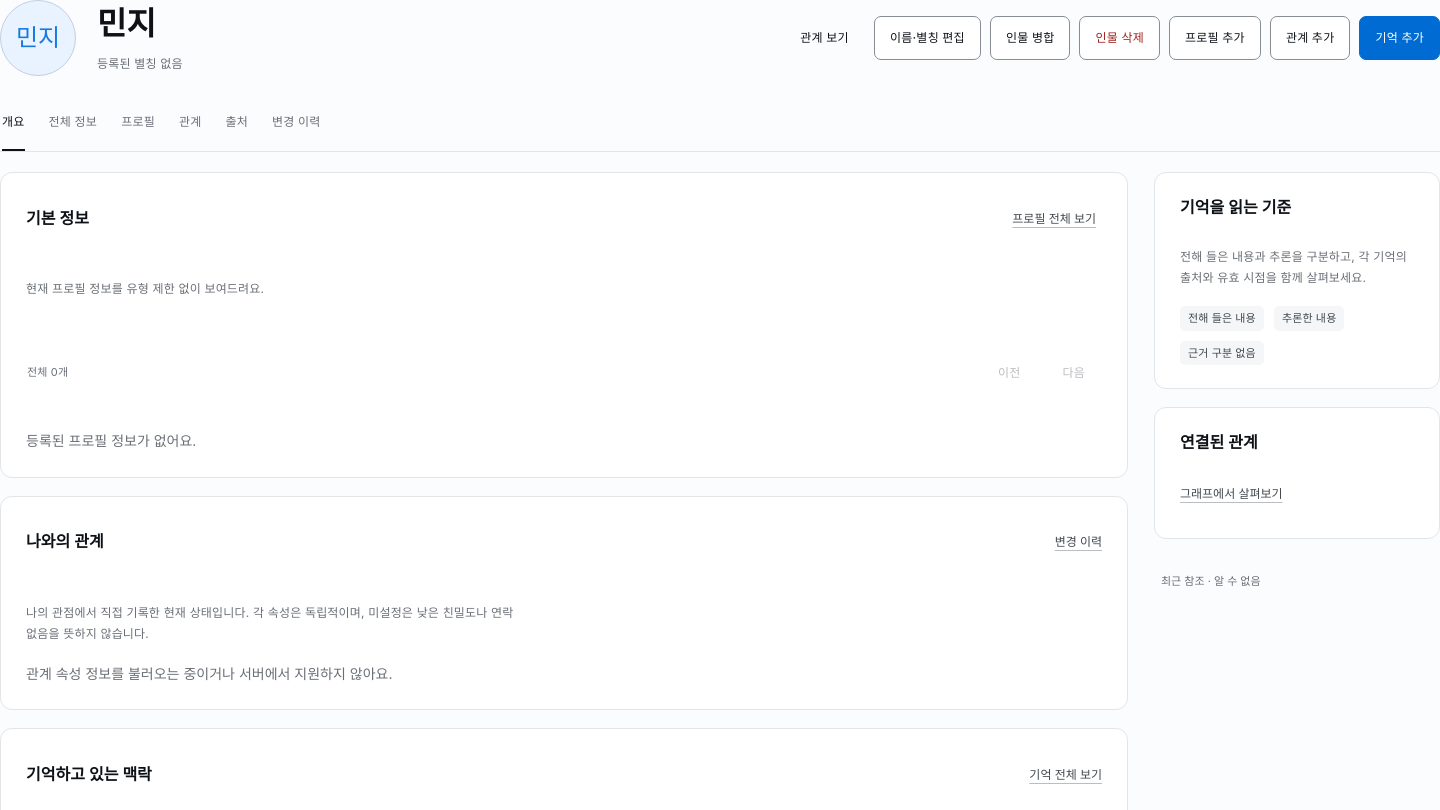
Test: 기억 조회와 변경 이력 › 인물 이름을 저장해도 같은 창의 미저장 별칭 초안을 잃지 않는다
This screenshot has width=1440, height=810.
Click the button "이름·별칭 편집" at [927, 38], box left=874, top=16, right=981, bottom=60
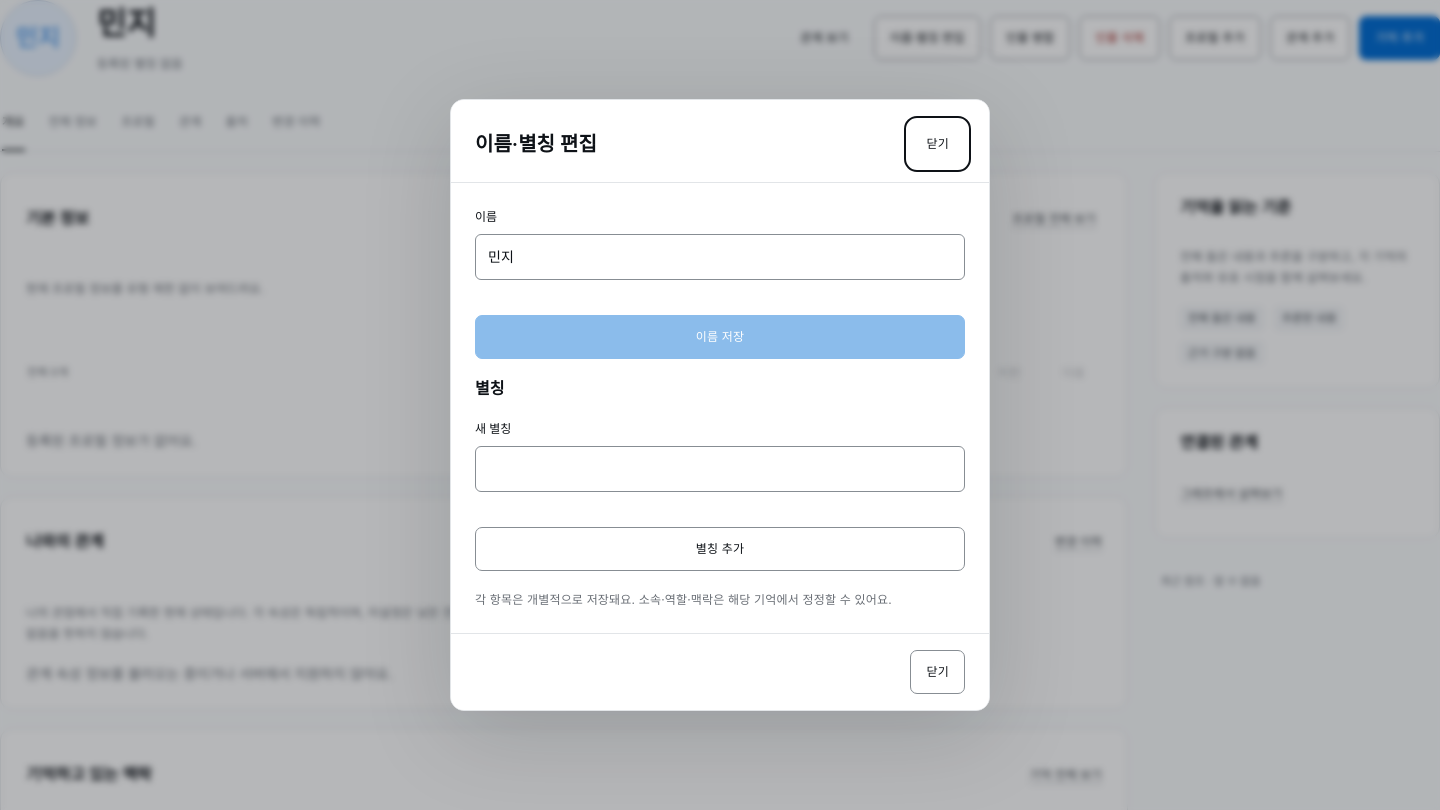
Type "아직 저장하지 않은 별칭" into the field labelled "새 별칭" at [720, 469], box left=475, top=446, right=965, bottom=492
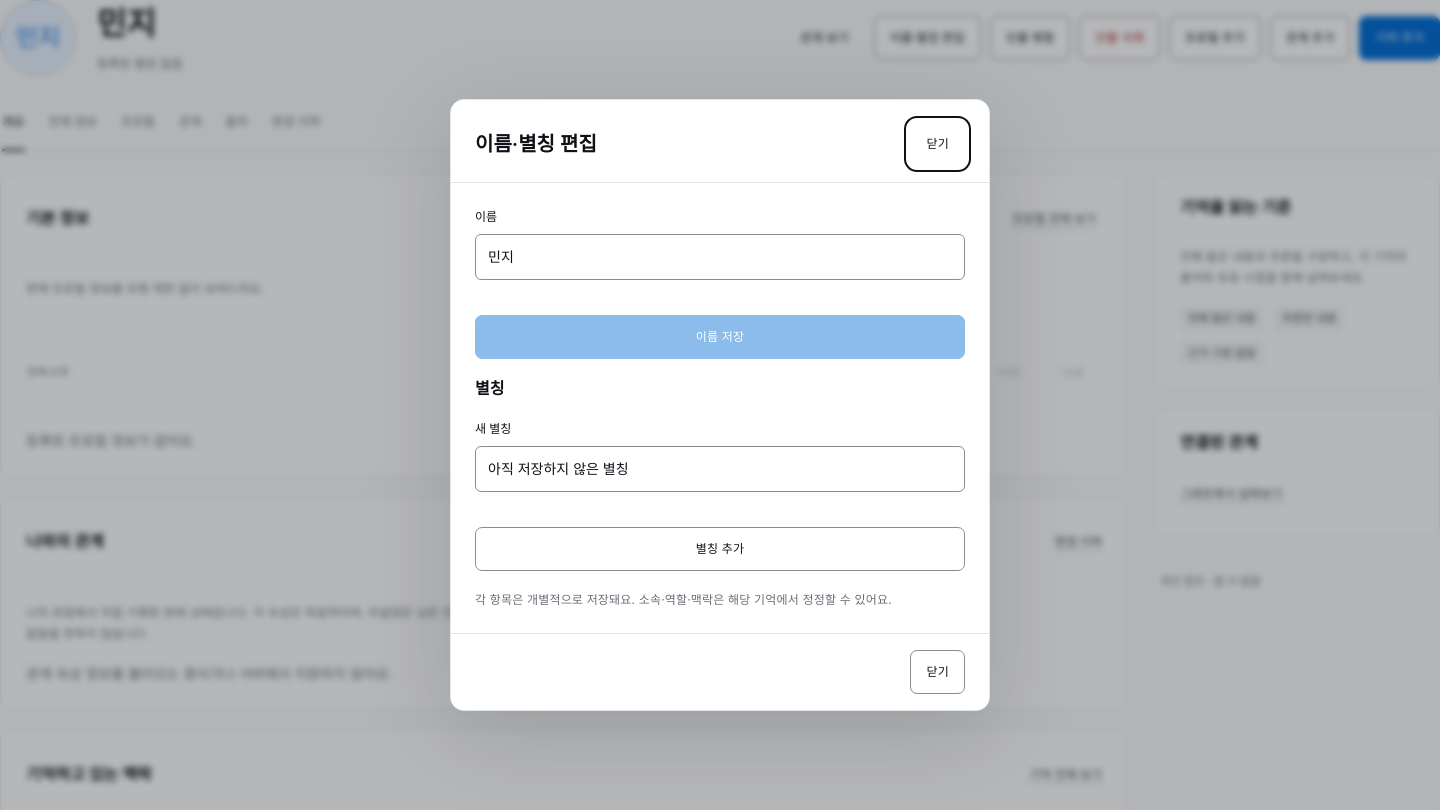
Replace the text in the field labelled "이름" with "김민지" at [720, 257], box left=475, top=234, right=965, bottom=280
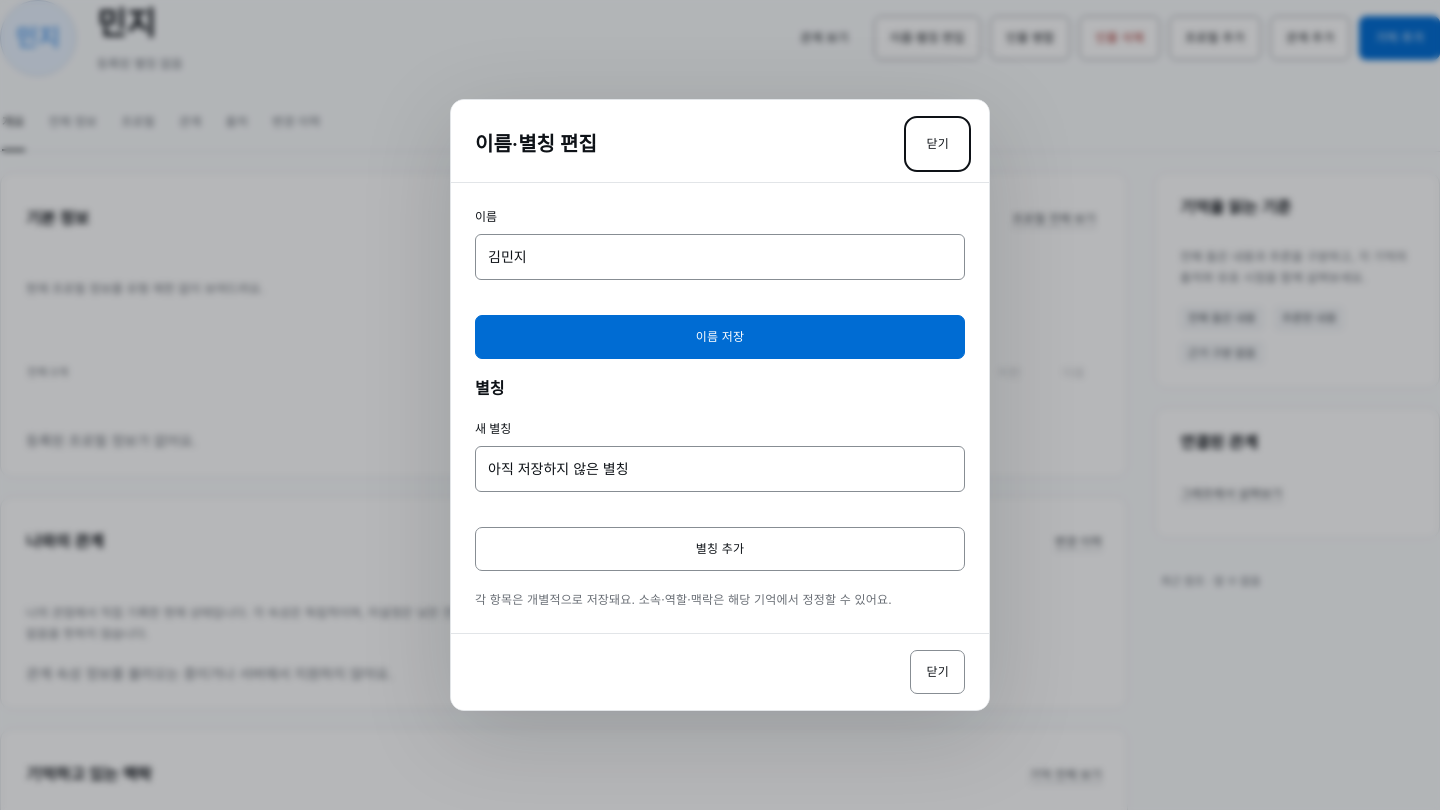
Click the button "이름 저장" at [720, 337], box left=475, top=315, right=965, bottom=359
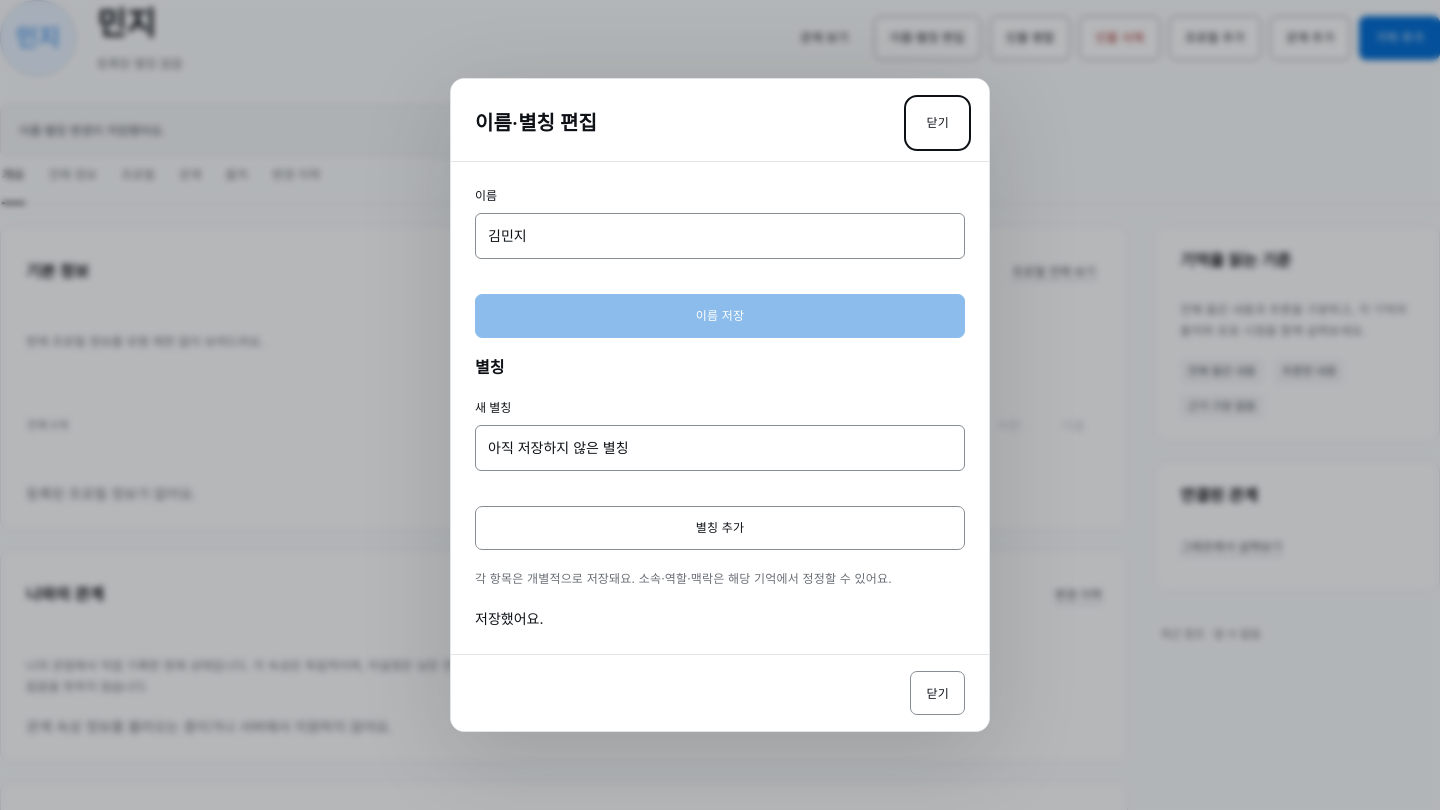
Now the dialog is shown, box left=450, top=78, right=990, bottom=732
Now the text "저장했어요." is shown, box left=475, top=610, right=543, bottom=627
Now the button "이름 저장" is disabled, box left=475, top=294, right=965, bottom=338
